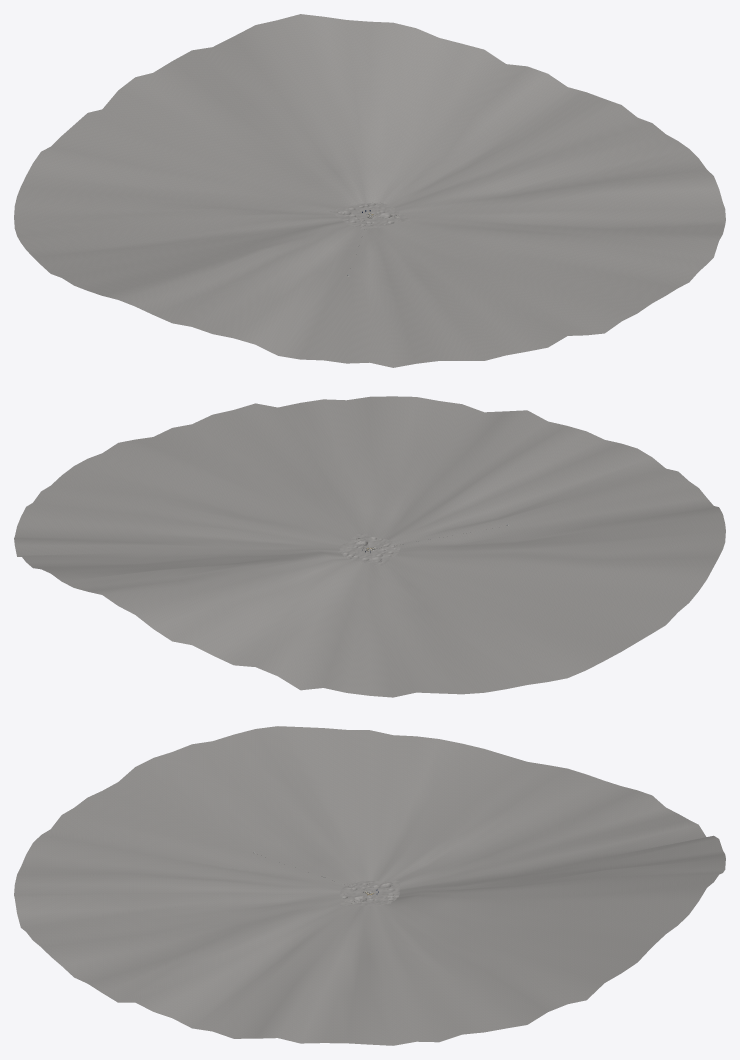
The model's file is project3_moon_base.glb.
3 views of the same model, one above another, from view 1: azimuth 30°, elevation 25°; view 2: azimuth 150°, elevation 25°; view 3: azimuth 270°, elevation 25° (orthographic).
Visible parts, largest first — view 1: T01_Terrain_Near_400m; view 2: T01_Terrain_Near_400m; view 3: T01_Terrain_Near_400m.
Boxes of the visible parts, x1,y1,x2,y2 form: T01_Terrain_Near_400m: [14, 14, 725, 367]; T01_Terrain_Near_400m: [14, 396, 725, 697]; T01_Terrain_Near_400m: [14, 726, 725, 1045].
Bounding box in the file's own units: 4800 × 449 × 4800.
Materials: 45 (33 with a texture image).
